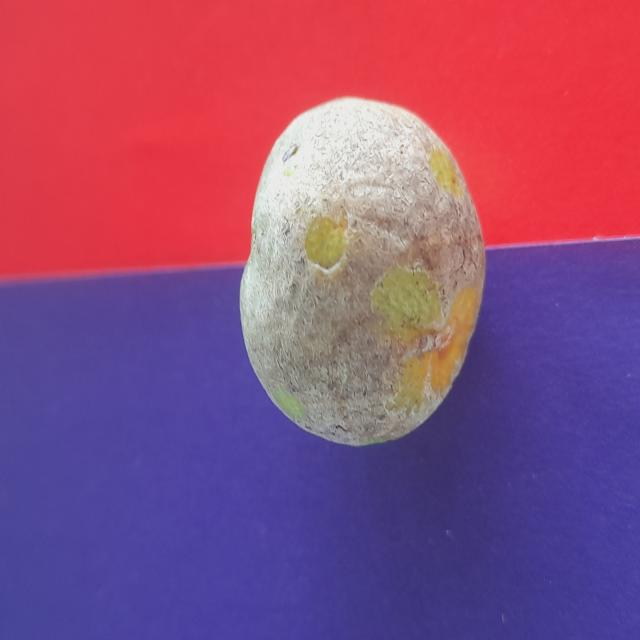thrips: (246, 100, 484, 444)
